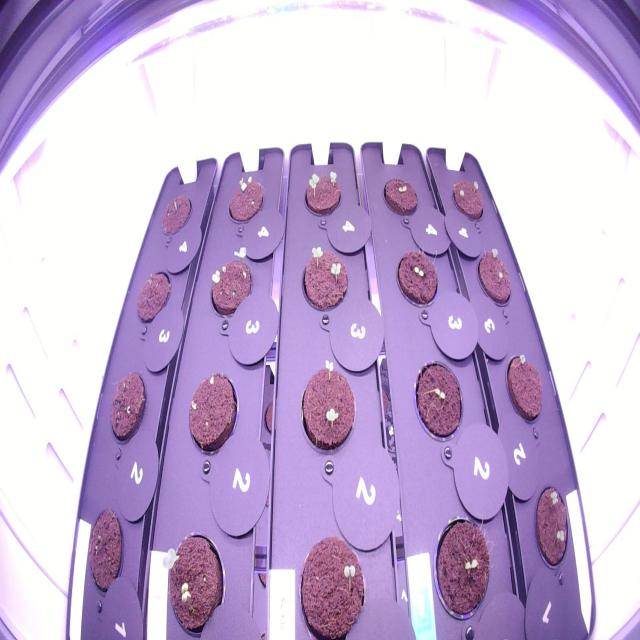germination: (154, 516, 235, 640), (290, 521, 370, 639), (429, 494, 495, 631), (296, 351, 360, 462), (184, 362, 245, 468), (408, 344, 468, 446), (530, 476, 575, 591), (206, 238, 260, 328), (296, 236, 352, 321), (390, 238, 446, 321), (501, 344, 549, 434), (474, 237, 518, 318), (298, 160, 346, 228), (222, 165, 270, 232), (446, 166, 492, 228), (376, 166, 422, 224)
pod: (81, 494, 128, 602), (104, 361, 150, 451), (132, 260, 177, 330), (157, 184, 197, 244)
